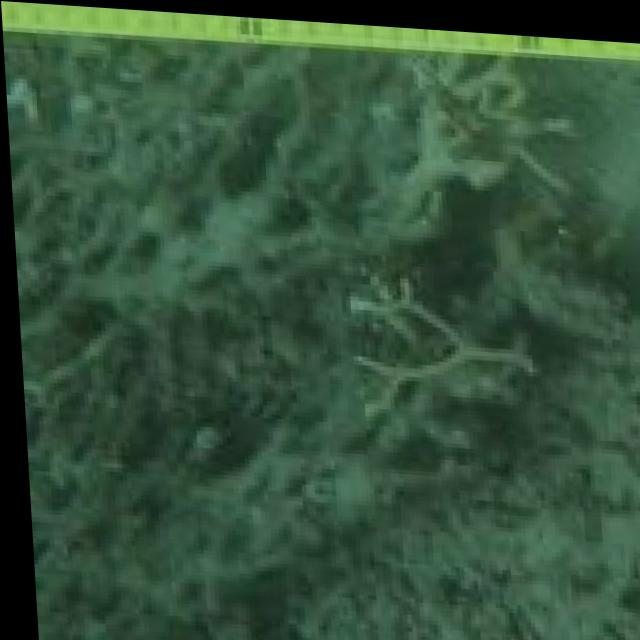Bleached Coral: (312, 41, 592, 416)
